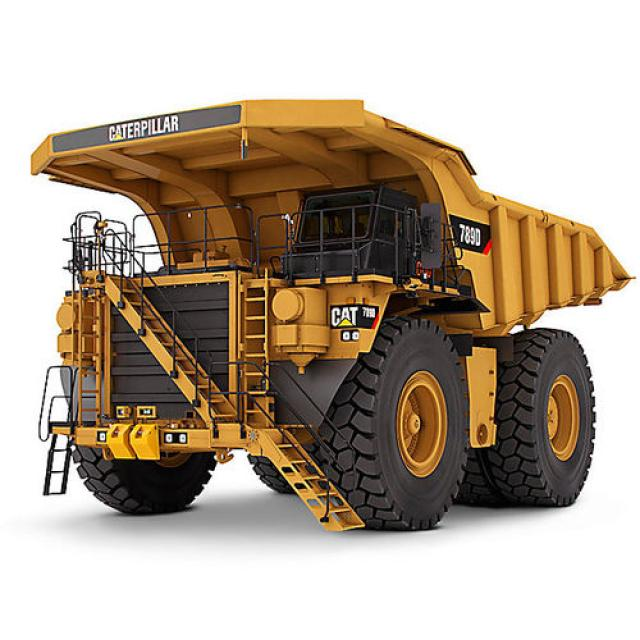dump_truck: (13, 111, 624, 552)
